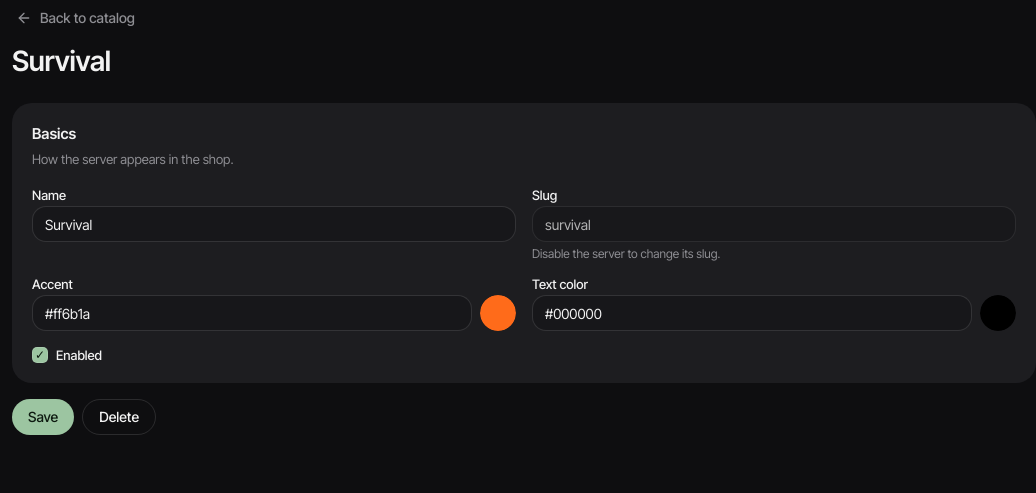
ServerEditor › warns when the text colour has too little contrast with the accent
This screenshot has width=1036, height=493.
Expected: the text "Low contrast" is not shown
Replace the text in the field labelled "Accent" with "#ffffff" at (252, 313), box x1=32 y1=295 x2=472 y2=331
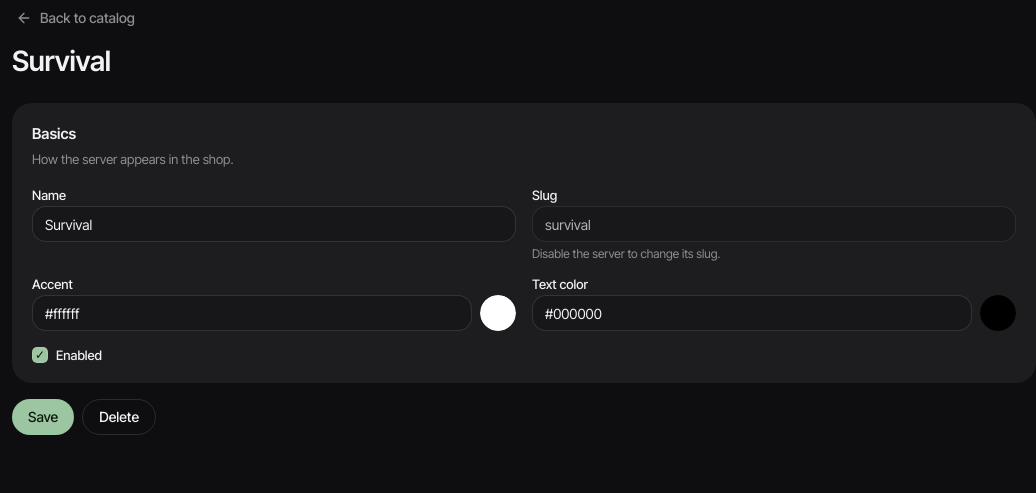
Replace the text in the field labelled "Text color" with "#ffc857" at (752, 313), box x1=532 y1=295 x2=972 y2=331
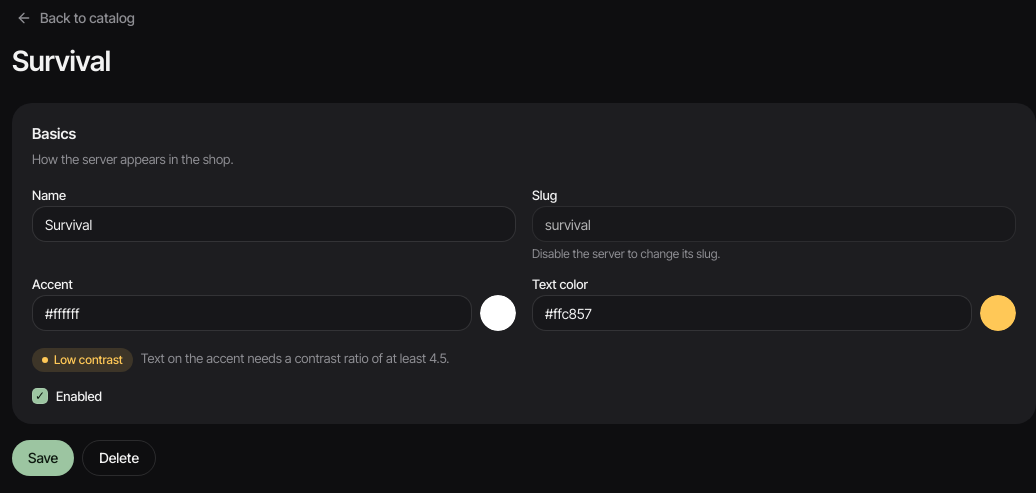
Expected: the text "Low contrast" is shown, x1=32 y1=348 x2=133 y2=372
